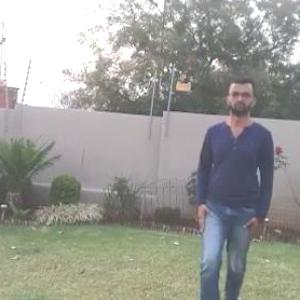follow: (198, 85, 268, 299)
